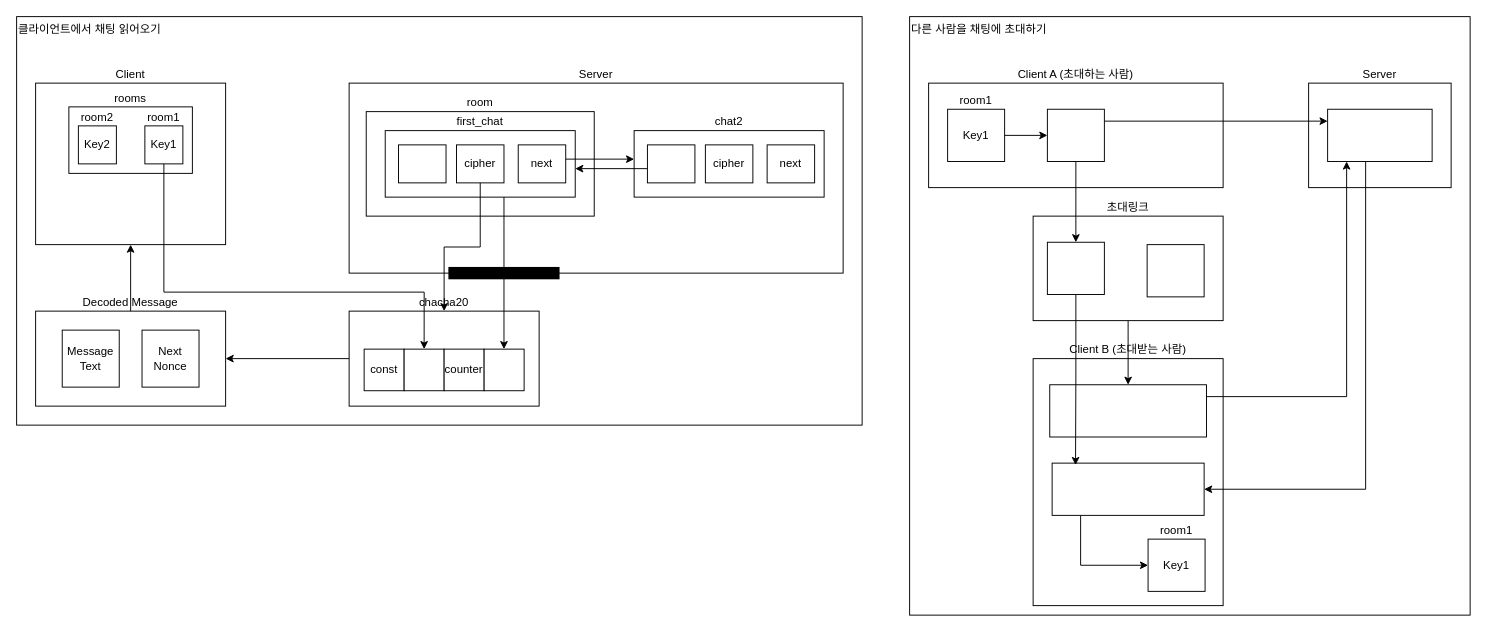
Some shapes in this 1487 by 632 pixel diagram are drawn without their labels. The centre of each missing label's shape, as x and y in pixels:
"Cipher Key & 초대링크 ID" goes at point (1379, 135).
"key" goes at point (423, 369).
"nonce" goes at point (503, 369).
"prev" goes at point (670, 163).
"prev (null)" goes at point (422, 163).
"복호화" goes at point (1127, 488).
"암호화" goes at point (1075, 135).
"임시키" goes at point (1075, 267).
"초대링크 ID" goes at point (1175, 270).
"초대수락" goes at point (1127, 410).
